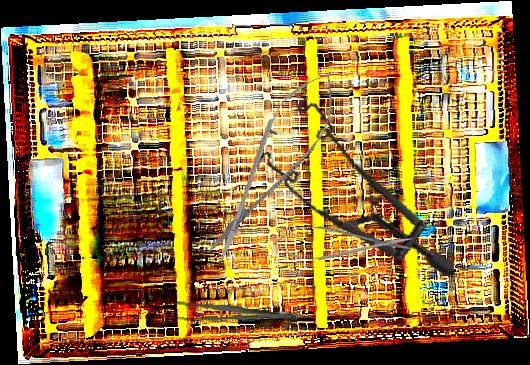Dressing Forceps: (161, 300, 294, 327)
Micro Scissor: (190, 59, 353, 273), (273, 226, 413, 261)
Speculum: (240, 88, 483, 278)
